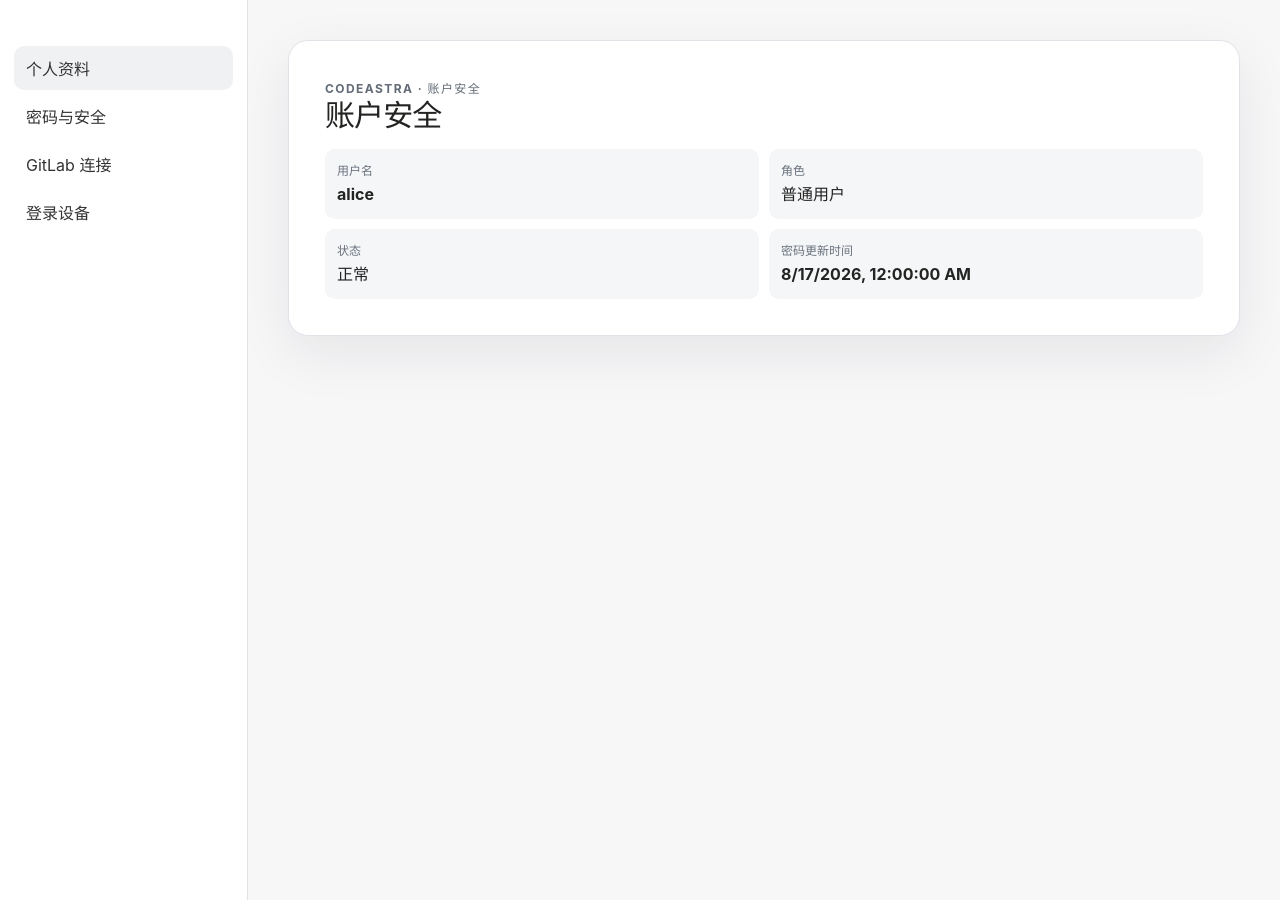
Test: uses account navigation to expose one profile, password, GitLab, or device section at a time
Expected: the navigation bar named "账户设置导航" is shown, [14,46,233,234]
Expected: the text "alice" is shown, [337,184,374,204]
Click the button "密码与安全": [124, 116] box [14,94,233,138]
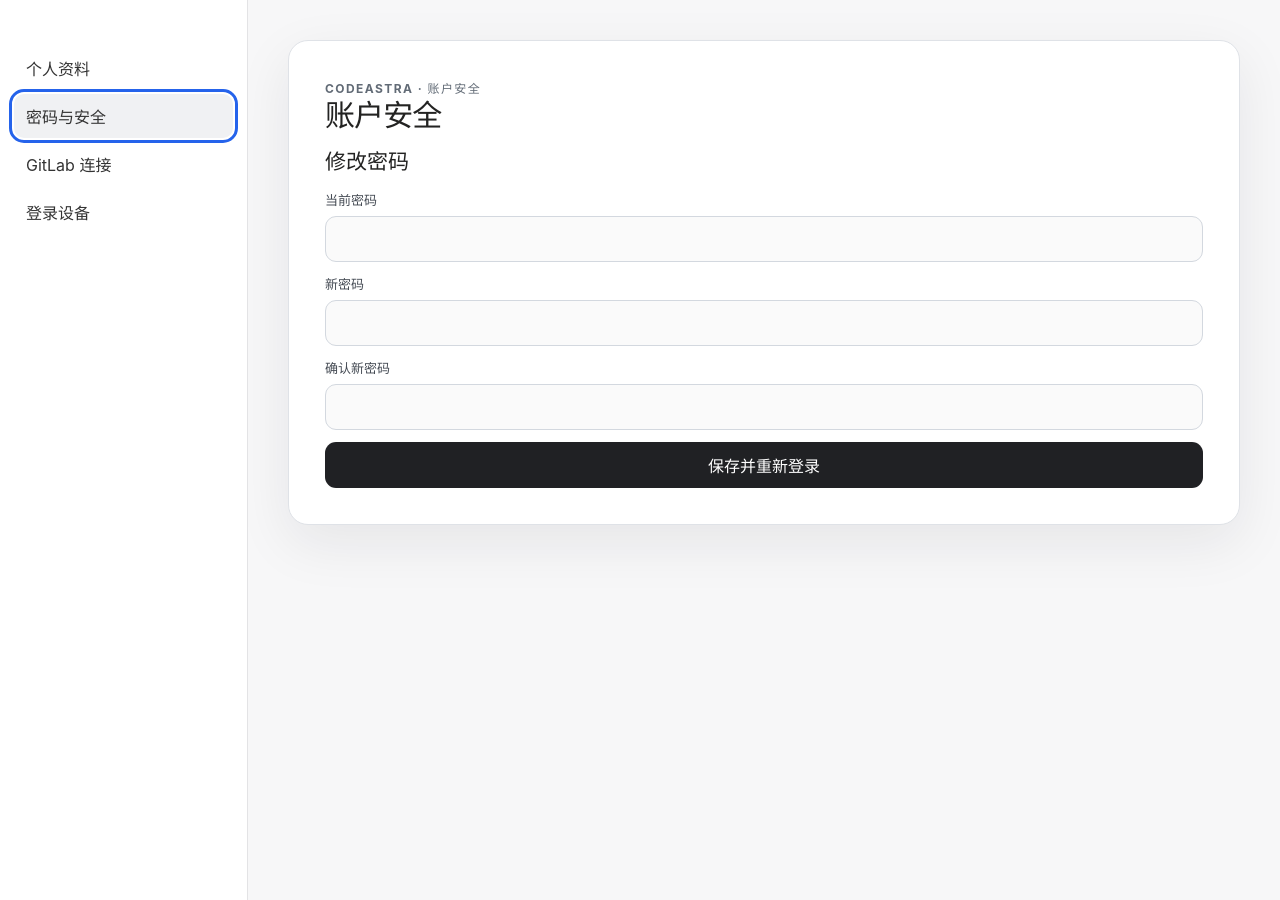
Expected: the password field labelled "当前密码" is shown, [325,216,1203,262]
Expected: the text "alice" is gone
Click the button "GitLab 连接": [124, 164] box [14,142,233,186]
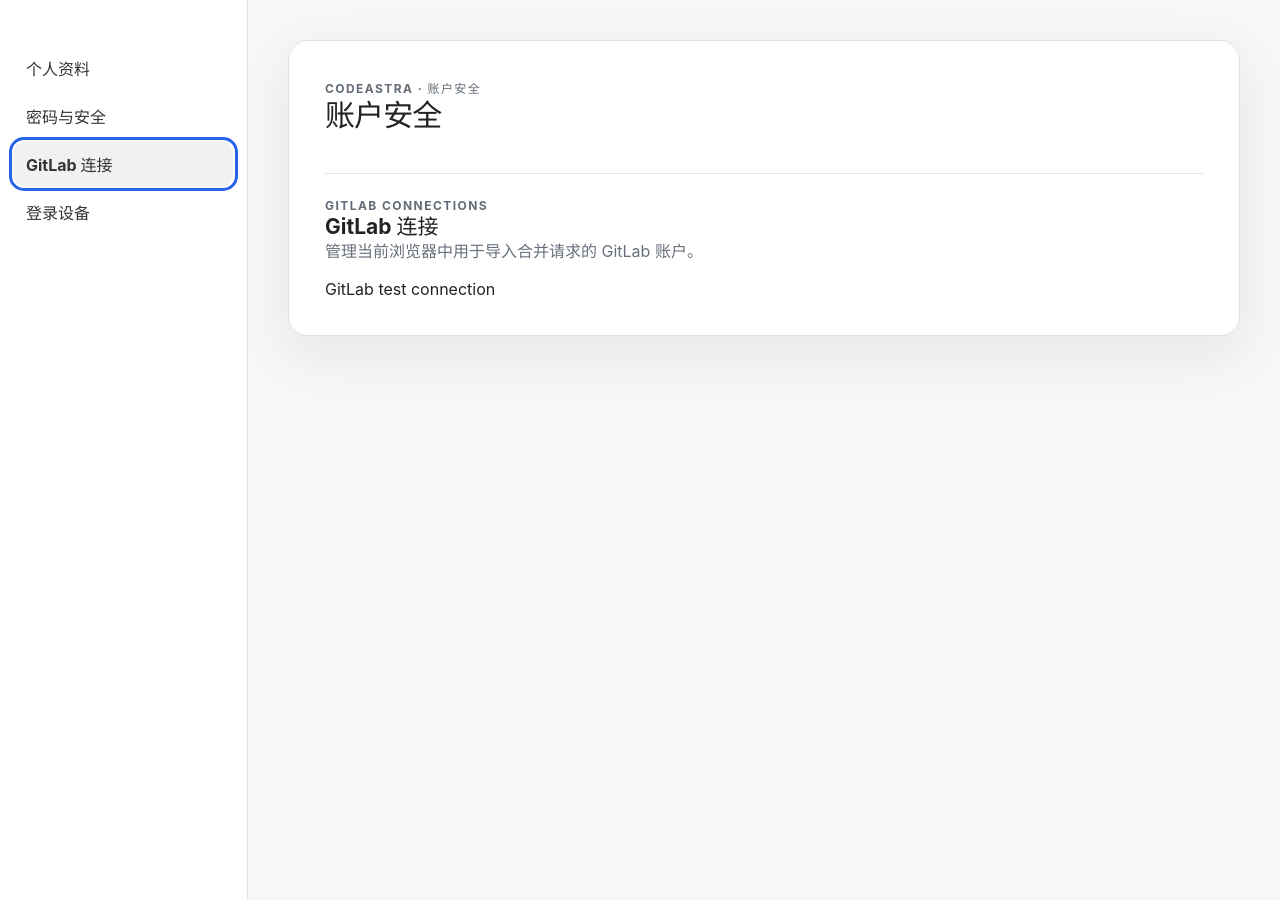
Expected: the element "GitLab 连接" shows "GitLab test connection", [325,279,495,299]
Click the button "登录设备": [124, 212] box [14,190,233,234]
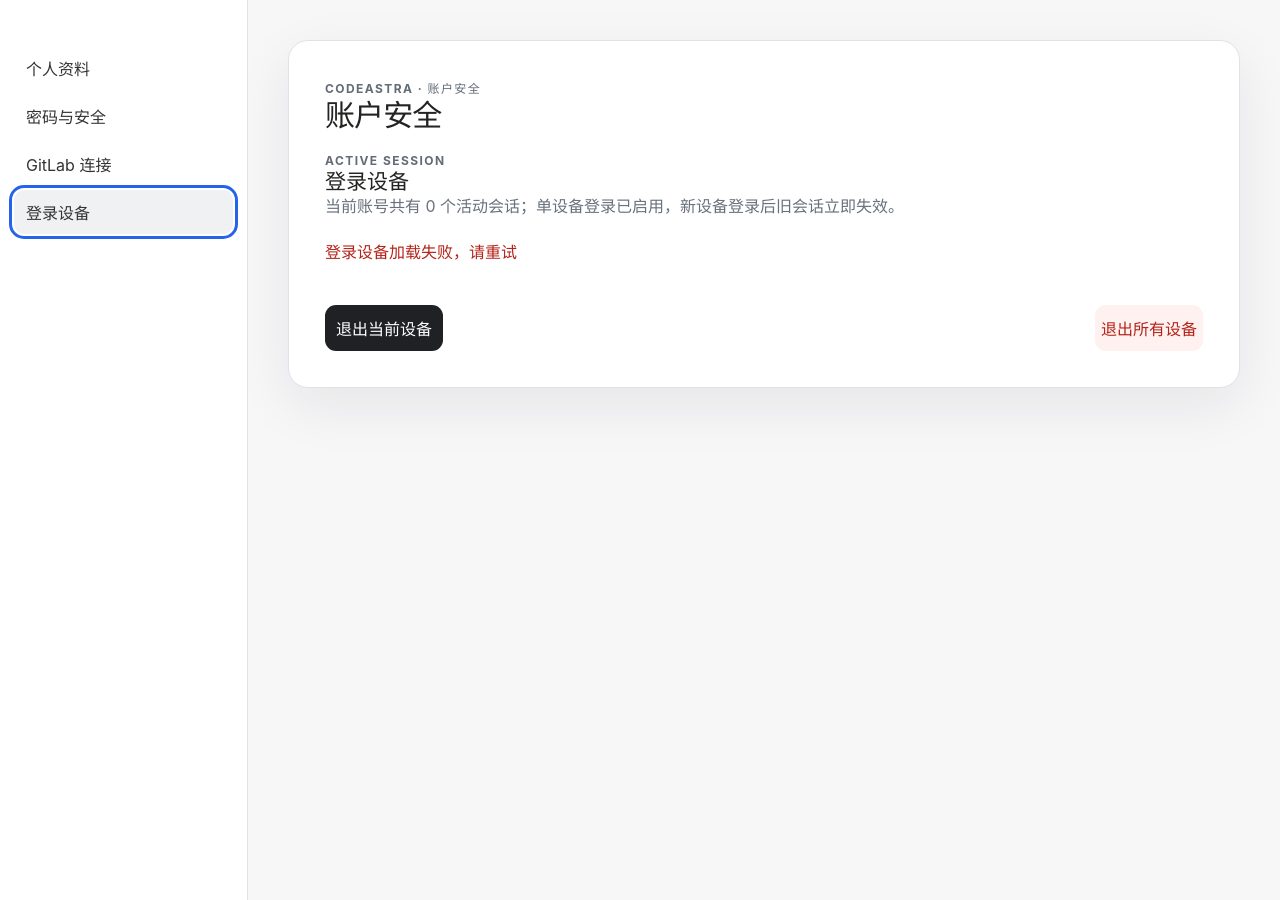
Expected: the button "退出所有设备" is shown, [1095,305,1203,351]
